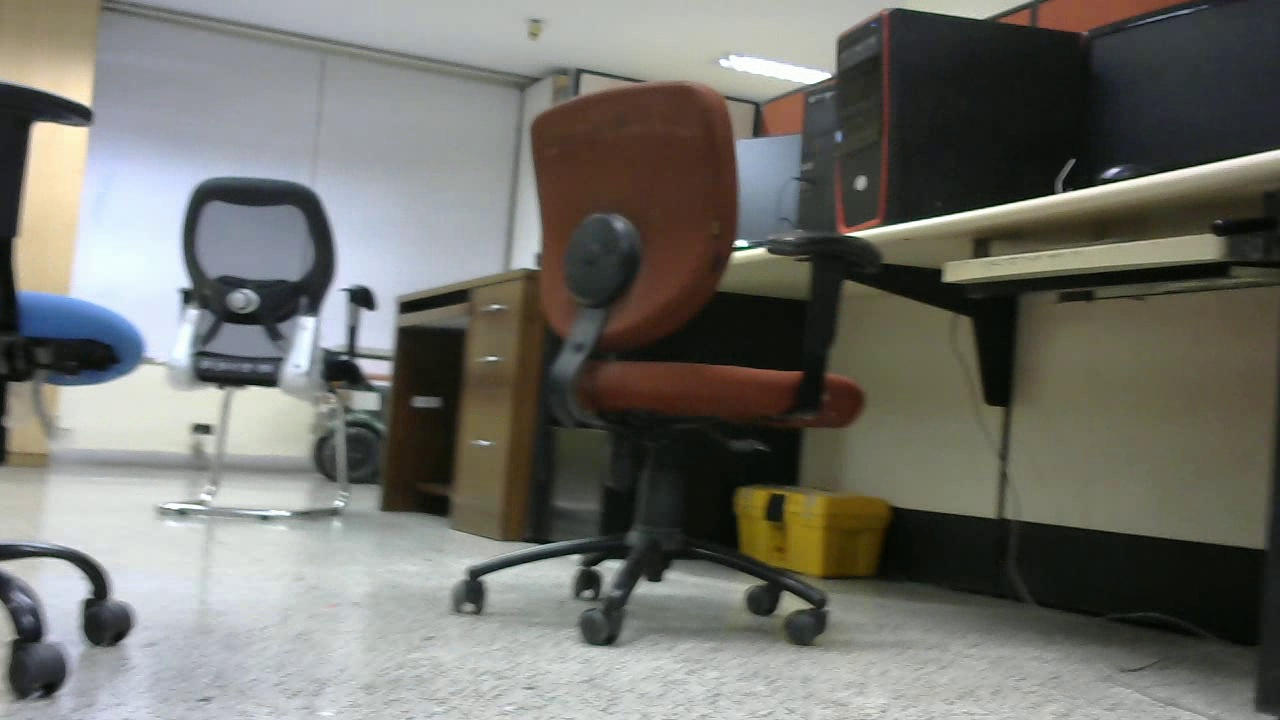chair: (446, 75, 827, 641), (143, 156, 365, 525)
